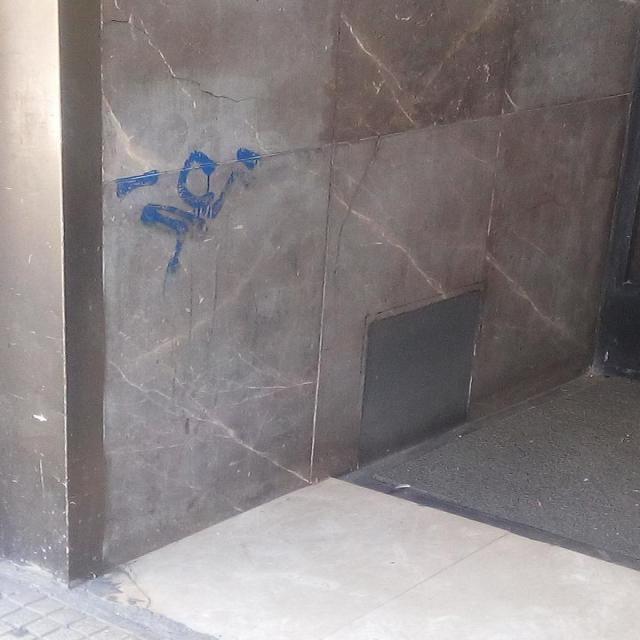nonspitting: (116, 147, 260, 276)
